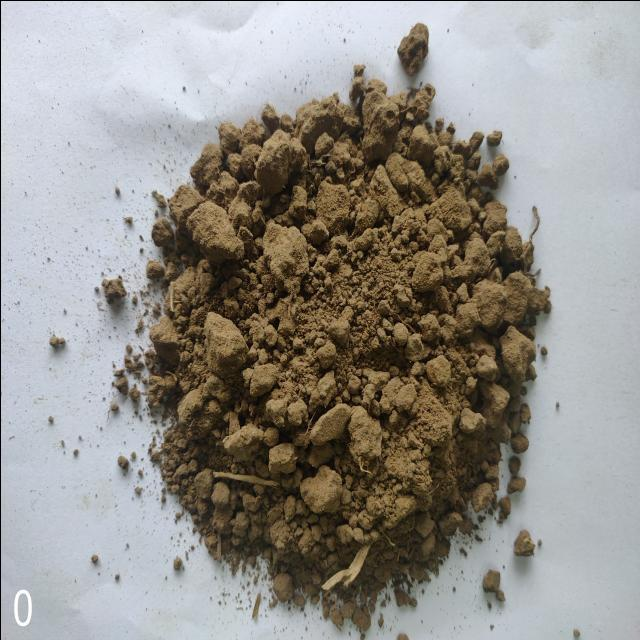soil: (212, 156, 465, 524)
